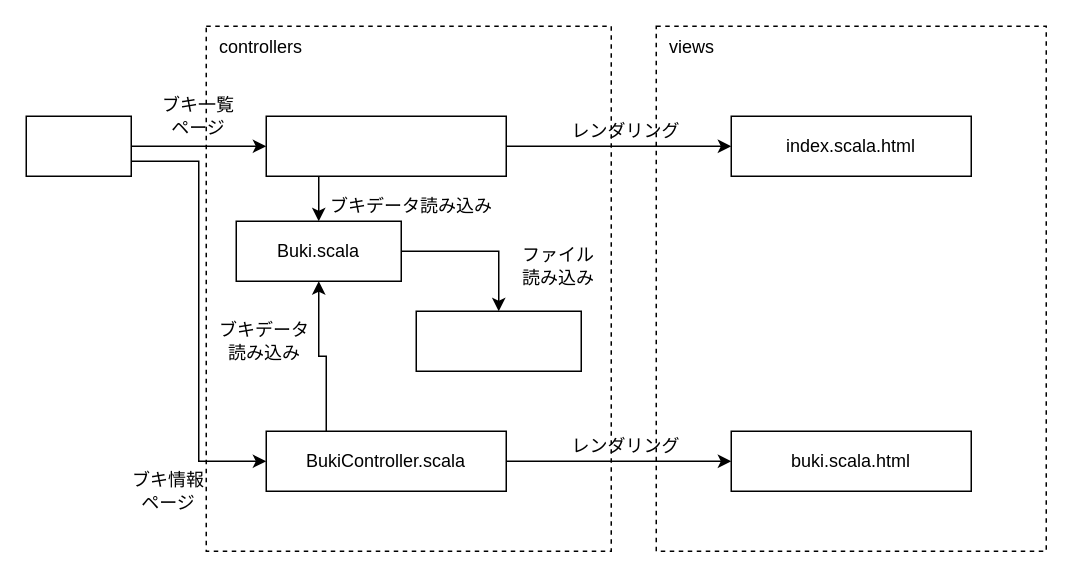
Some shapes in this 1073 by 578 pixel diagram are drawn without their labels. Here are the shapes that lost their labels. From the top down, the box of each, then its label:
(25, 115, 131, 176): routes
(265, 115, 506, 176): HomeController.scala
(415, 310, 581, 371): Buki.csv
